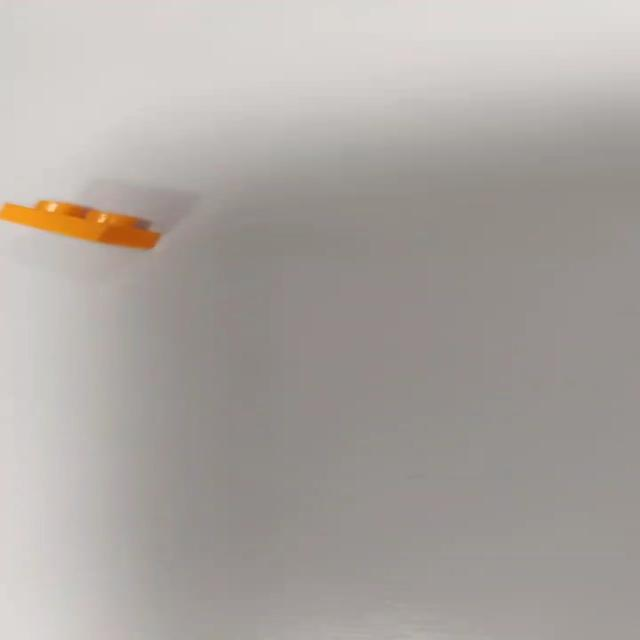C2x1x0: (0, 197, 168, 250)
